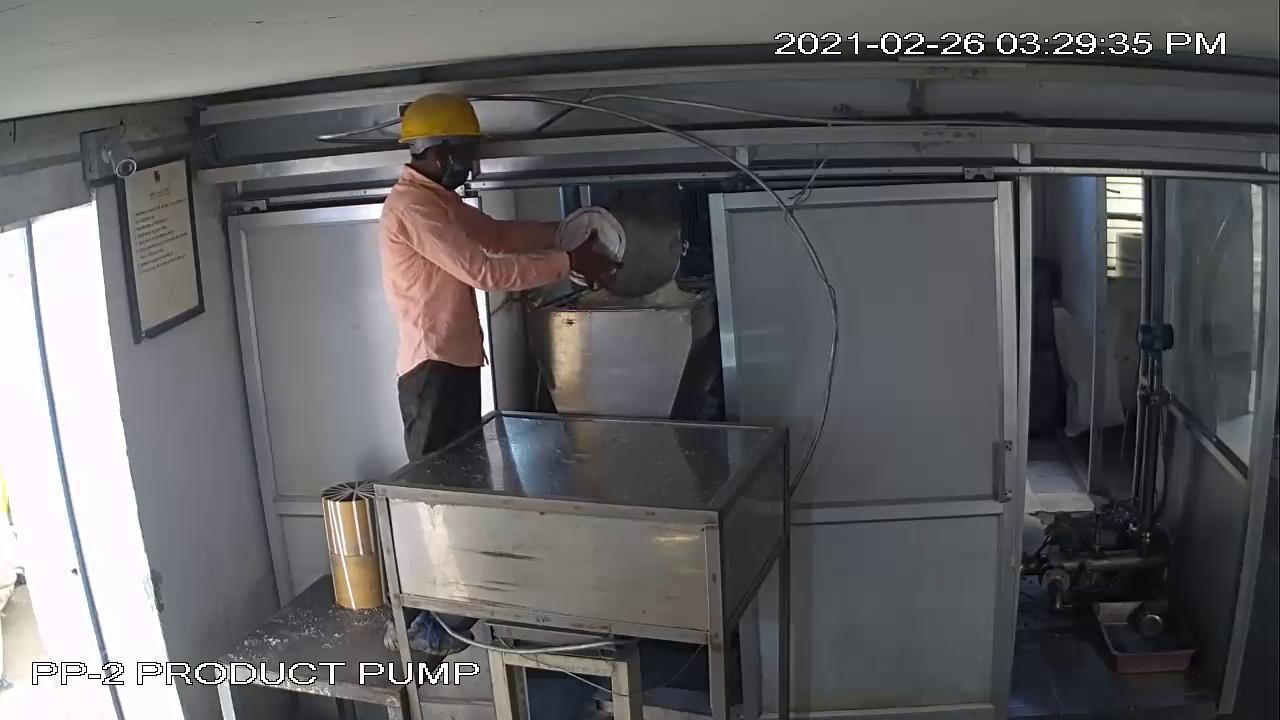helmet: (392, 87, 494, 155)
